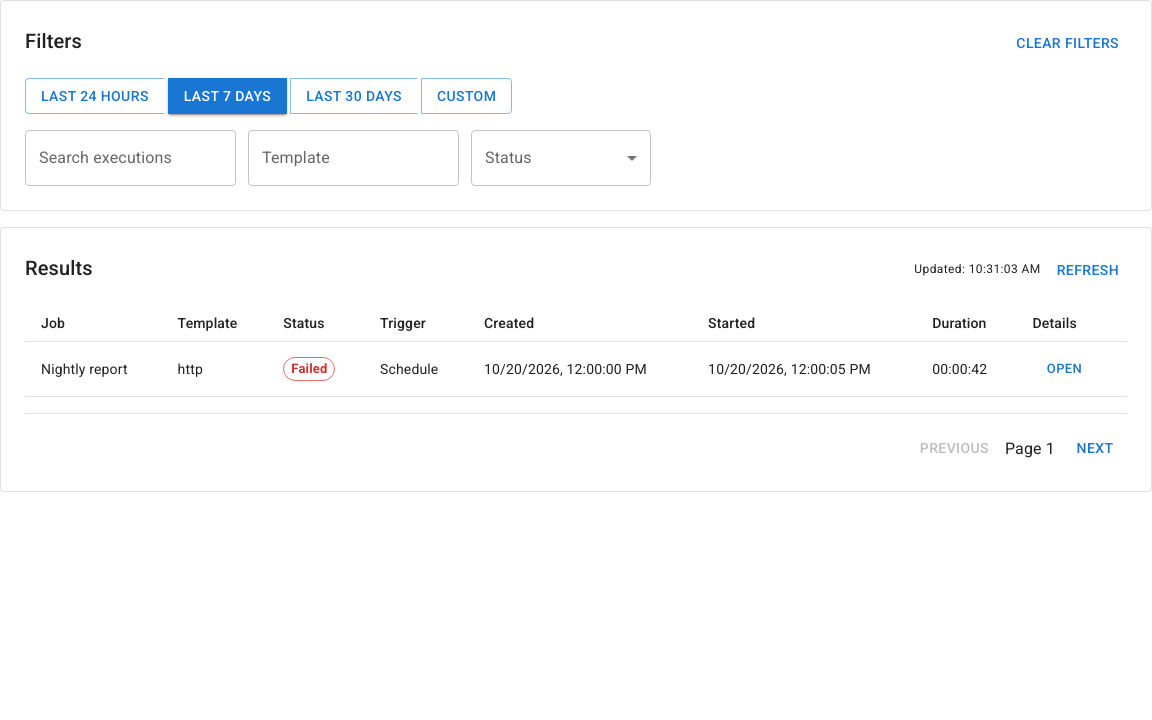
Test: groups filters and results, and Clear restores the default query
The width and height of the screenshot is (1152, 720).
Expected: the button "Refresh" is shown, [1049, 252, 1127, 288]
Step 1. Type "Nightly" into the field labelled "Search executions" → (130, 158), box [25, 130, 236, 186]
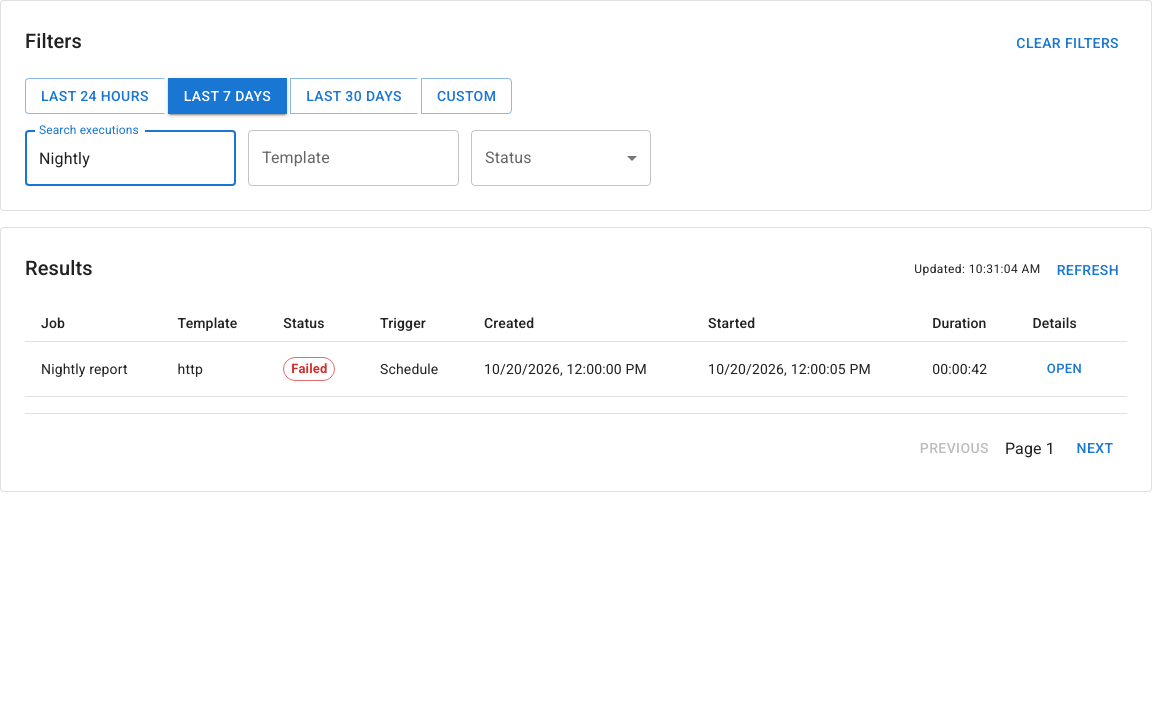
Step 2. Click the button "Last 30 days" → (354, 96), box [290, 78, 418, 114]
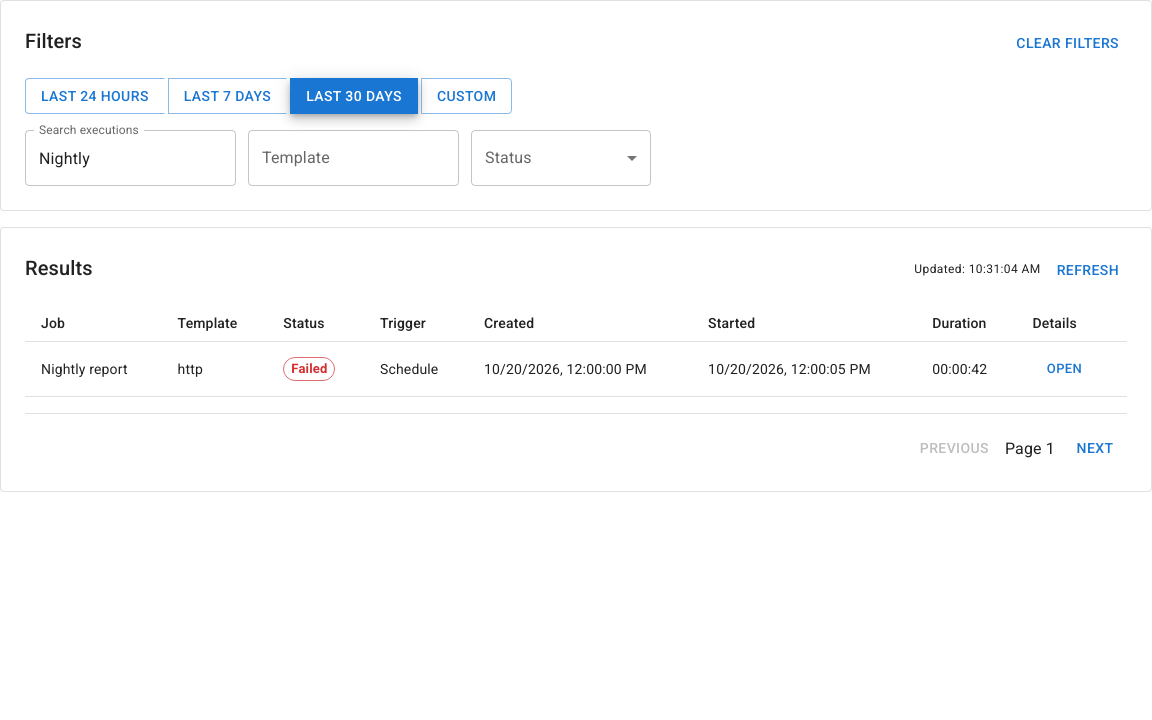
Step 3. Click the button "Clear filters" → (1068, 43), box [1008, 25, 1127, 62]
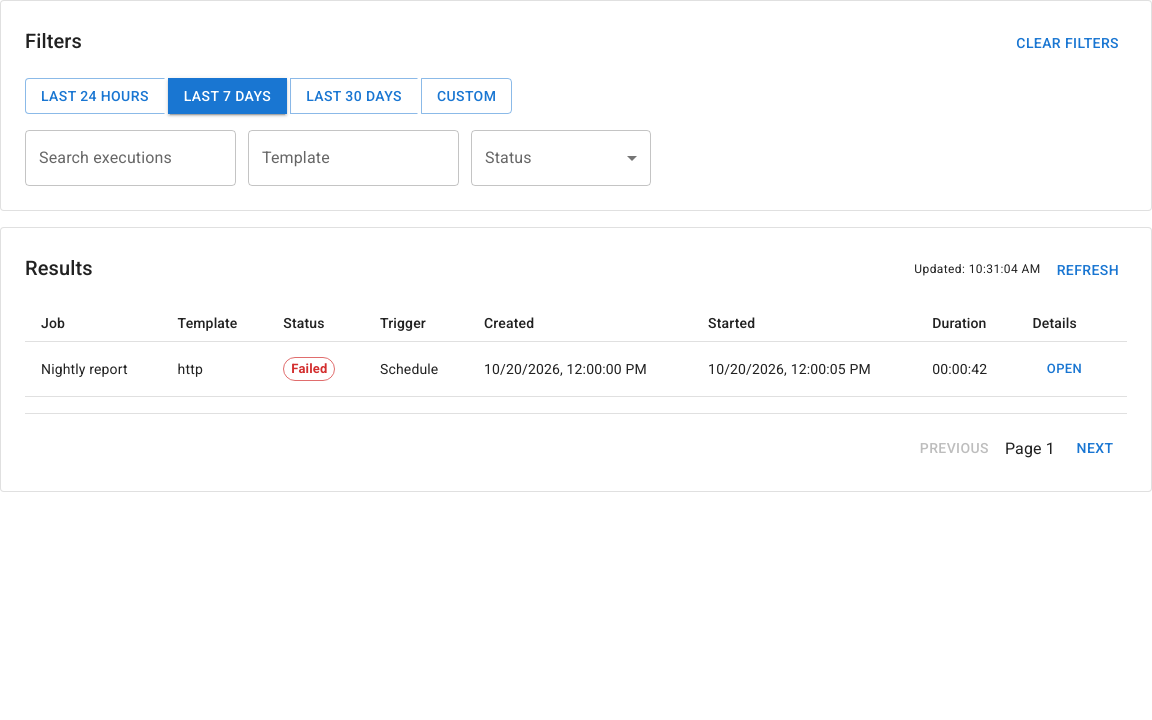
Expected: the text "Page 1" is shown, [1005, 436, 1055, 460]
Expected: the field labelled "Search executions" is empty, [25, 130, 236, 186]
